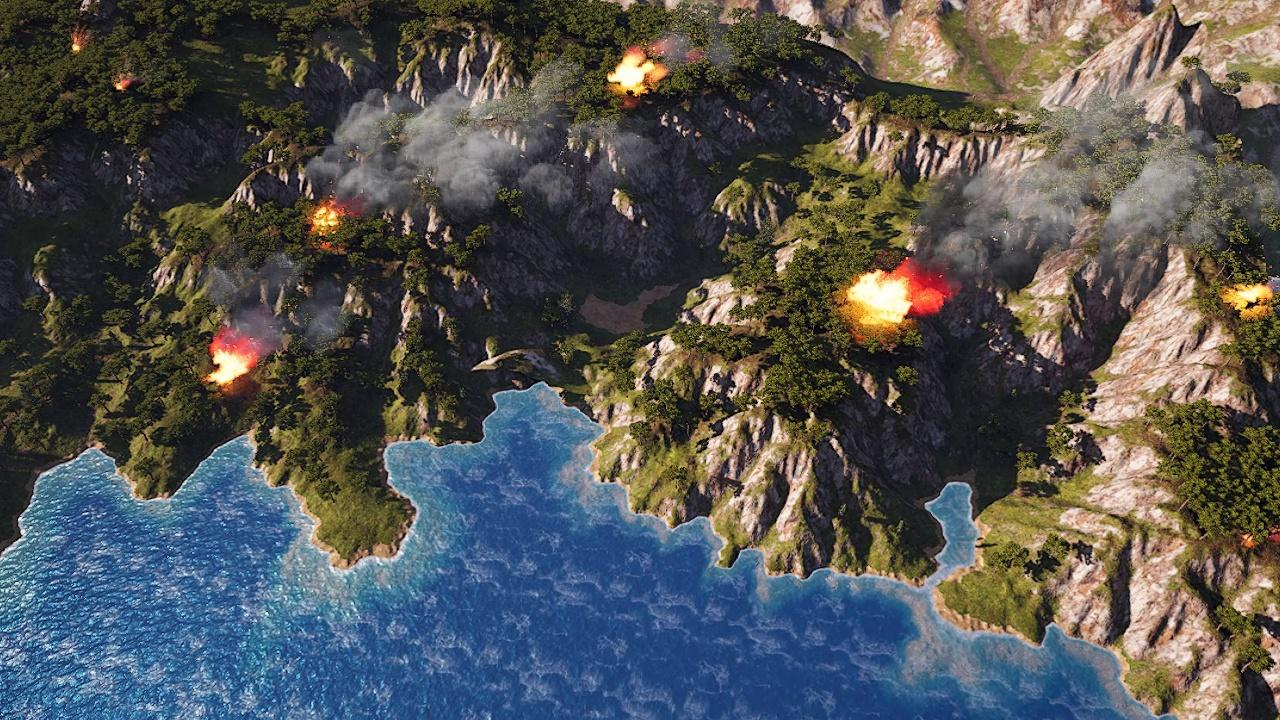fire: (847, 270, 909, 326), (610, 53, 661, 91), (209, 343, 254, 386), (1230, 282, 1273, 307), (312, 202, 347, 231), (1241, 526, 1280, 551), (70, 21, 88, 54), (117, 75, 134, 91)
smoke: (908, 114, 1280, 276), (310, 79, 577, 217), (211, 260, 346, 346)
